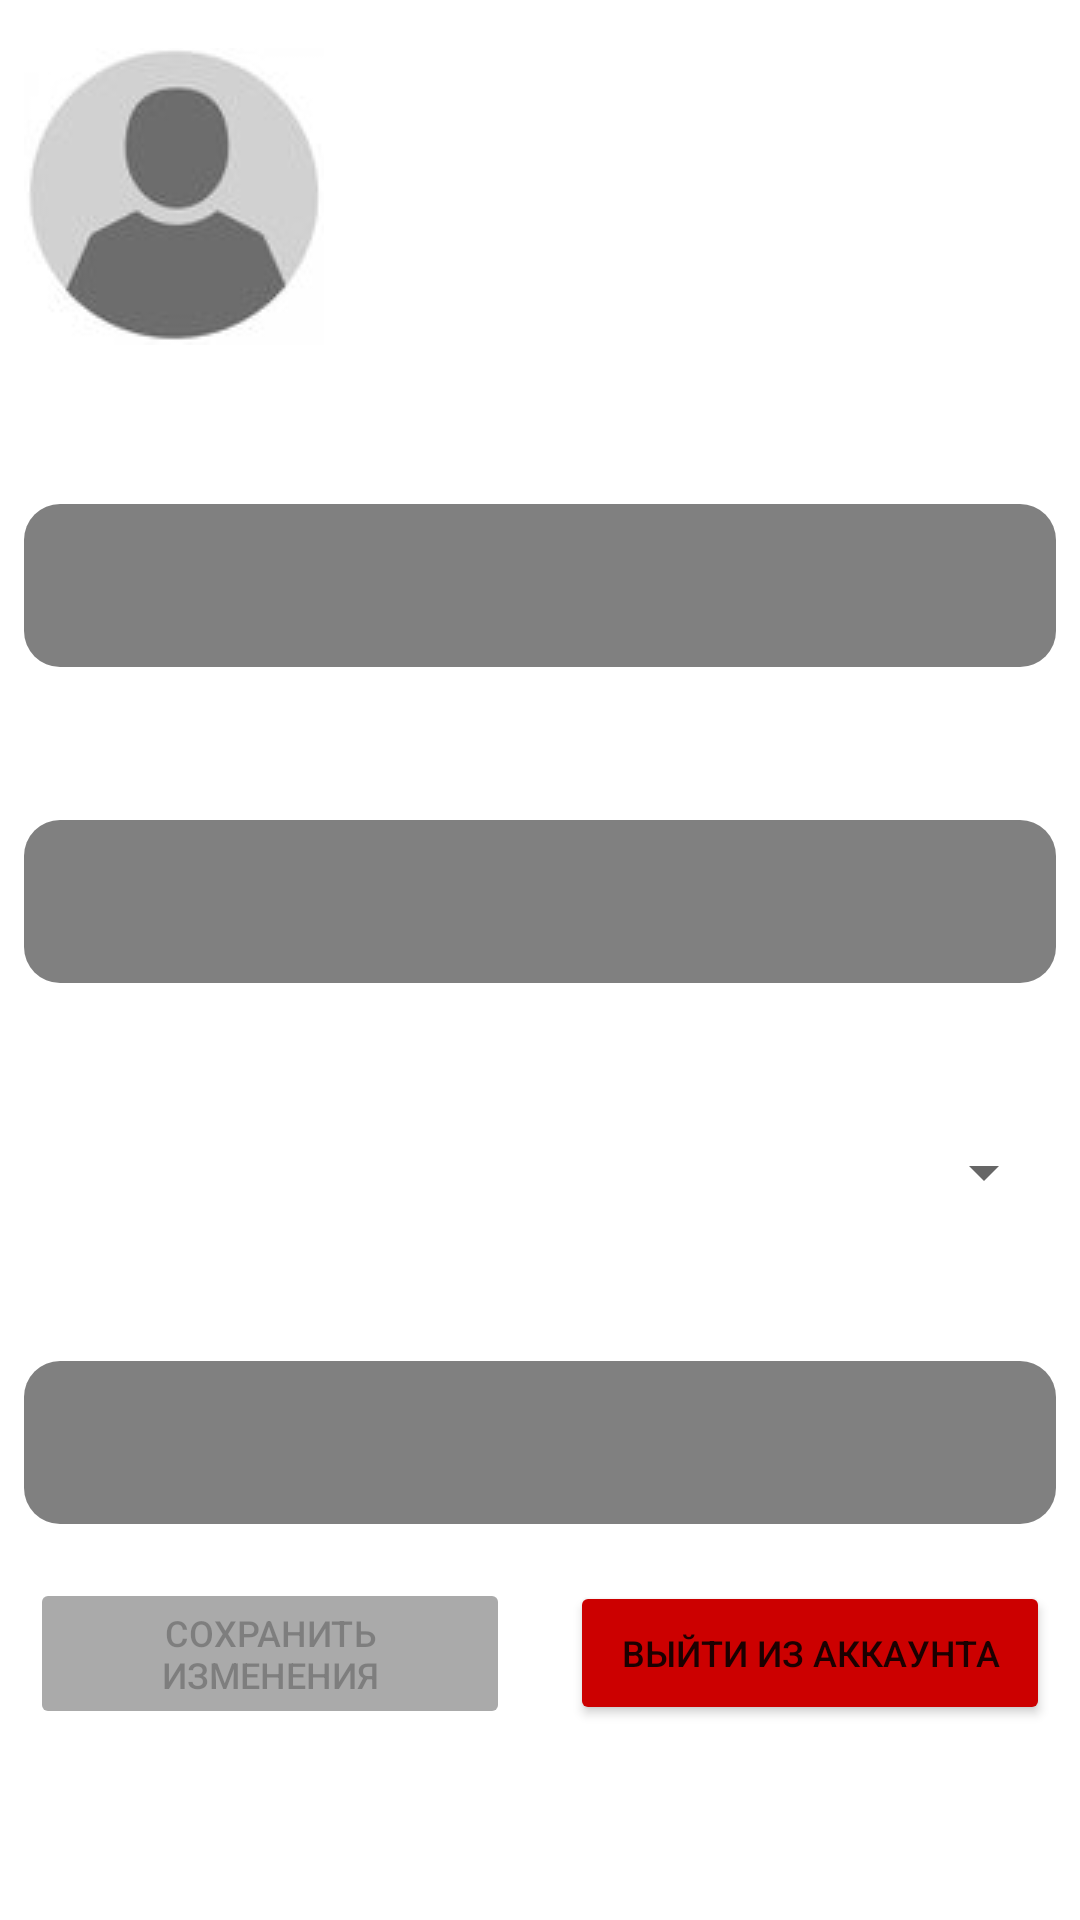

Screen size 1080 x 1920. Icon name, then its box in pixels as Rect(x1, y1, x2, y2):
usericon: Rect(30, 51, 318, 340)
